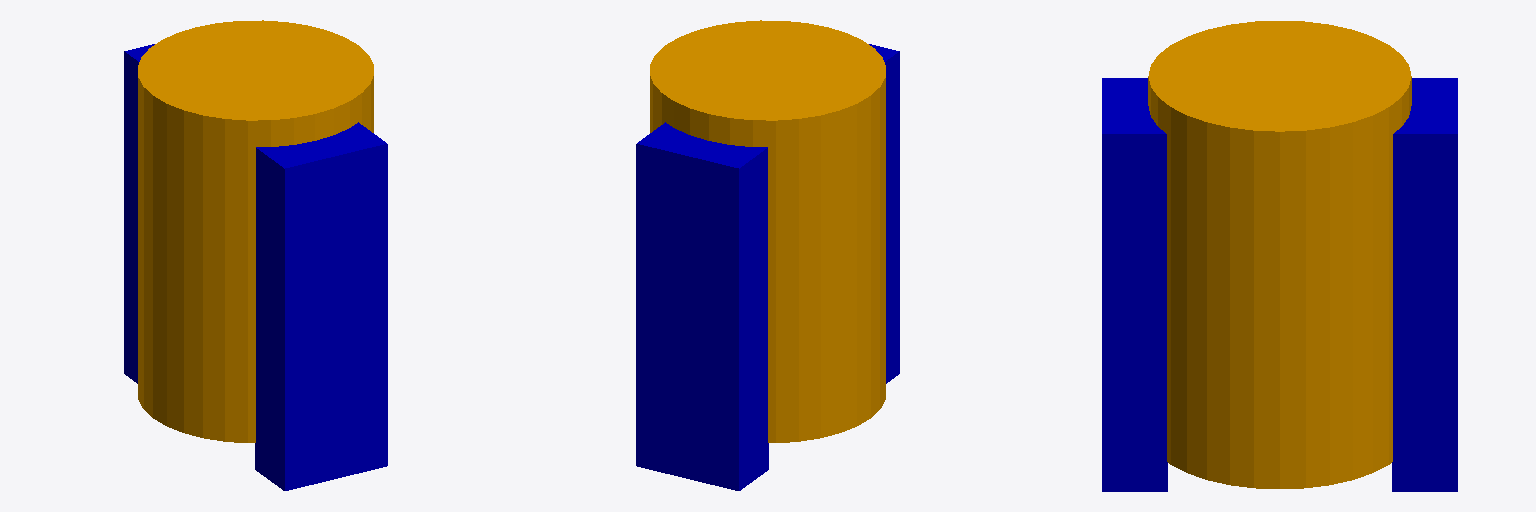
The robot description file, URDF, robot "multipleshapes":
<?xml version="1.0"?>

<robot name="multipleshapes">

  <material name="blue">
    <color rgba="0 0 0.8 1"/>
  </material>

  <link name="base_link">
    <visual>
      <geometry>
        <cylinder length="0.6" radius="0.2">
        </cylinder>
      </geometry>
      <origin rpy="0 0 0" xyz="0 0 0.3"/>
    </visual>
  </link>

  <link name="right_leg">
    <visual>
      <geometry>
        <box size="0.6 0.1 0.2"/>
      </geometry>
      <origin rpy="0 1.57075 0" xyz="0 0 -0.3"/>
      <material name="blue"/>
    </visual>
  </link>

  <joint name="base_to_right_leg" type="fixed">
    <parent link="base_link"/>
    <child link="right_leg"/>
    <origin xyz="0 -0.22 0.55"/>
  </joint>

  <link name="left_leg">
    <visual>
      <geometry>
        <box size="0.6 0.1 0.2"/>
      </geometry>
      <origin rpy="0 1.57075 0" xyz="0 0 -0.3"/>
      <material name="blue"/>
    </visual>
  </link>

  <joint name="base_to_left_leg" type="fixed">
    <parent link="base_link"/>
    <child link="left_leg"/>
    <origin xyz="0 0.22 0.55"/>
  </joint>

</robot>

--- Render facts (derived) ---
3 views of the same robot in one strip: view 1: azimuth 30°, elevation 25°; view 2: azimuth 150°, elevation 25°; view 3: azimuth 270°, elevation 25° (orthographic).
Robot: multipleshapes — 3 links, 2 joints (2 fixed); root link base_link; default pose: every joint at zero.
Visible links, largest first — view 1: base_link, right_leg, left_leg; view 2: base_link, left_leg, right_leg; view 3: base_link, right_leg, left_leg.
Link boxes in pixels (bbox=[...]): base_link: bbox=[138, 20, 373, 442]; right_leg: bbox=[255, 122, 387, 490]; left_leg: bbox=[124, 44, 154, 383]; base_link: bbox=[650, 20, 885, 442]; left_leg: bbox=[636, 122, 768, 490]; right_leg: bbox=[869, 44, 899, 383]; base_link: bbox=[1148, 21, 1411, 488]; right_leg: bbox=[1102, 78, 1167, 491]; left_leg: bbox=[1392, 78, 1457, 491].
Size in the robot's own frame: 0.4 by 0.54 by 0.65 metres.
Geometry: primitives only (box / cylinder / sphere), no mesh files.